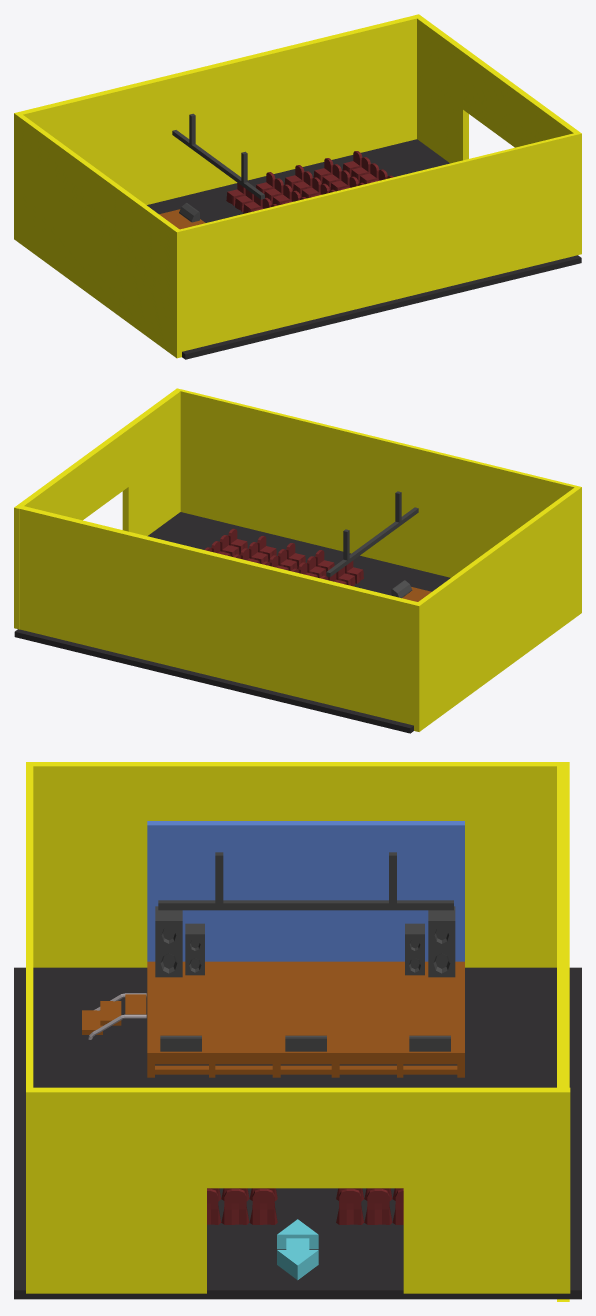
Rendered from FBX MainStage_CLEAN.fbx.
3 renders of one model, top to bottom at view 1: azimuth 30°, elevation 25°; view 2: azimuth 150°, elevation 25°; view 3: azimuth 270°, elevation 25°, orthographic. The views are drawn at different scales.
Parts seen in each view (by area): view 1: Wall 2, Wall 1, Floor.002, Kursi, Blockout; view 2: Wall 2, Wall 1, Floor.002, Kursi.001, Blockout; view 3: Wall 1, Wall 2, Floor.002, Cube.004, Stage, Blockout, Kursi.001, Kursi, To Convention, Speaker, Speaker.002, Speaker.001 (+4 smaller).
Part boxes in pixels (x1,y1,x2,y2): Wall 2: (14,15,577,358); Wall 1: (415,14,581,254); Floor.002: (147,139,581,359); Kursi: (226,151,393,213); Blockout: (172,113,264,199); Wall 2: (18,389,581,731); Wall 1: (14,388,180,629); Floor.002: (14,512,450,733); Kursi.001: (204,528,363,586); Blockout: (326,491,418,576); Wall 1: (26,1087,570,1293); Wall 2: (26,762,569,1301); Floor.002: (14,967,581,1299); Cube.004: (147,821,464,961); Stage: (147,961,464,1077); Blockout: (158,852,453,910); Kursi.001: (207,1188,277,1224); Kursi: (336,1188,403,1224); To Convention: (277,1219,318,1280); Speaker: (155,906,182,977); Speaker.002: (428,906,455,977); Speaker.001: (185,923,204,975).
Bounding box in the file's own units: 2162 × 674 × 1572.
